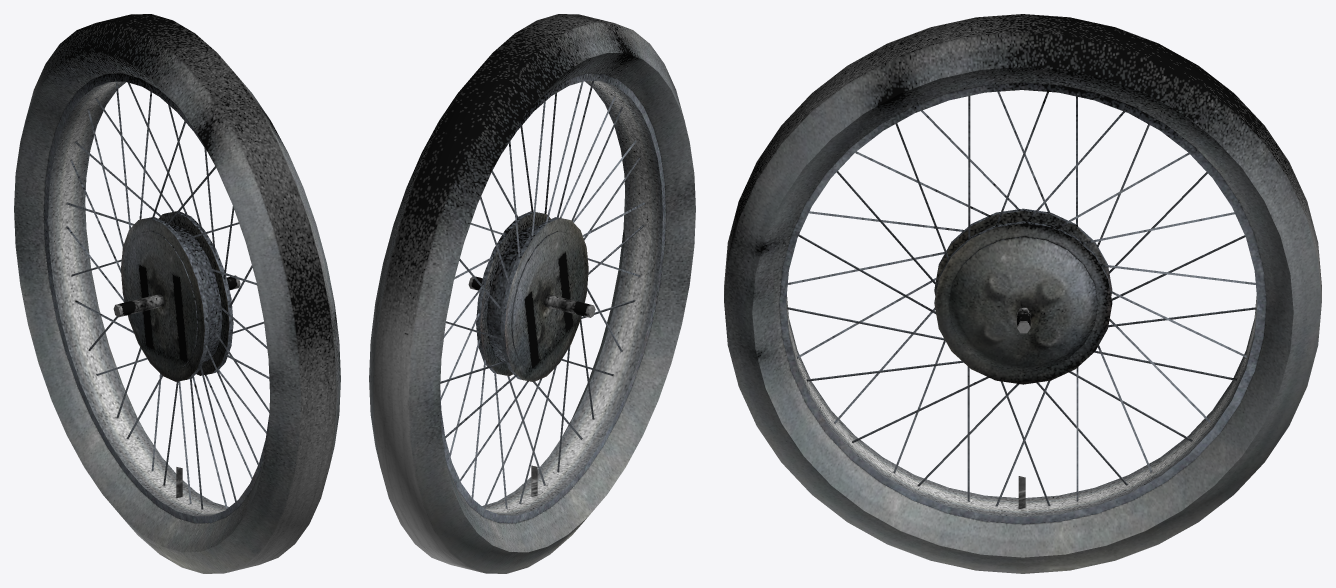
Rendered from Tire.001.fbx.
3 views of the same model, side by side, from view 1: azimuth 30°, elevation 25°; view 2: azimuth 150°, elevation 25°; view 3: azimuth 270°, elevation 25° (orthographic). The views are drawn at different scales.
Parts seen in each view (by area): view 1: Tire.001; view 2: Tire.001; view 3: Tire.001.
Boxes of the visible parts, bbox=[...] form: Tire.001: bbox=[14, 14, 340, 573]; Tire.001: bbox=[369, 14, 695, 573]; Tire.001: bbox=[724, 14, 1321, 573].
Bounding box in the file's own units: 17.75 × 72.11 × 72.11.
